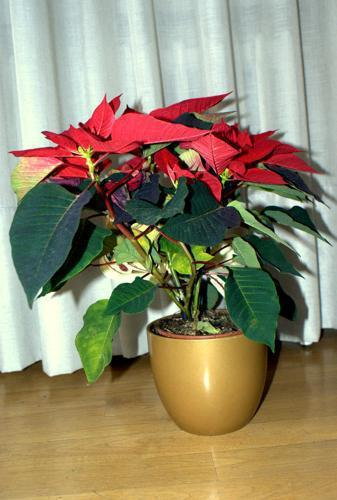Matera: (25, 82, 330, 443)
